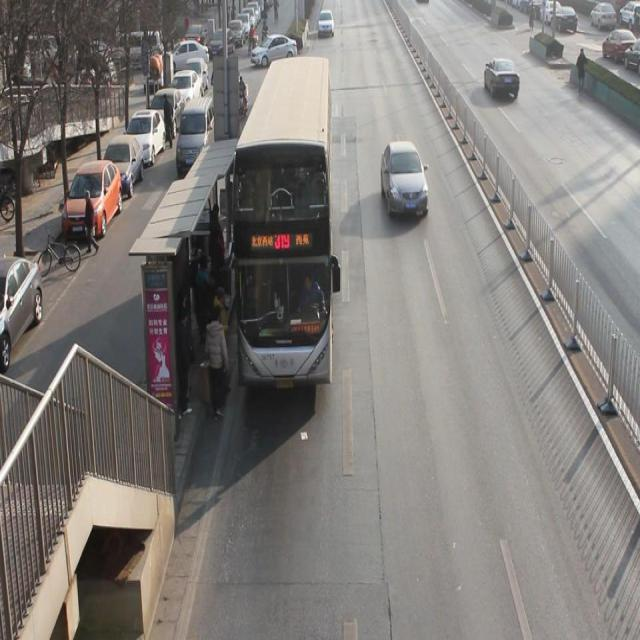car: (378, 146, 432, 220), (482, 57, 522, 101), (317, 13, 335, 37)
van: (231, 56, 332, 386)
